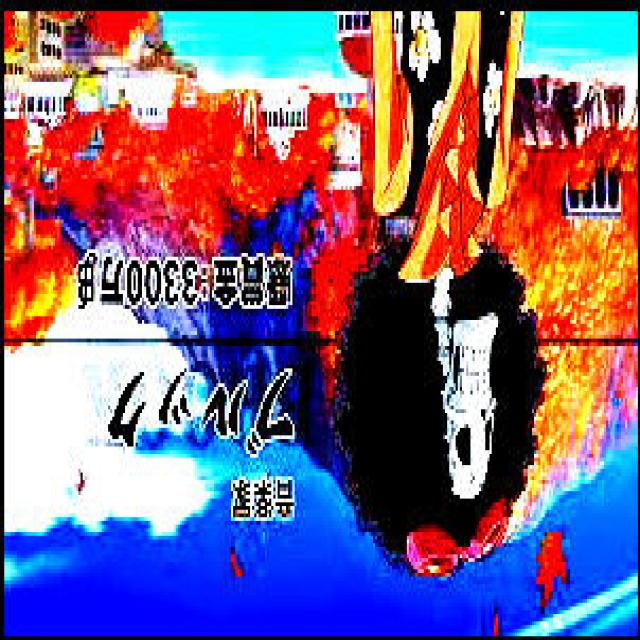Brook: (322, 12, 608, 596)
